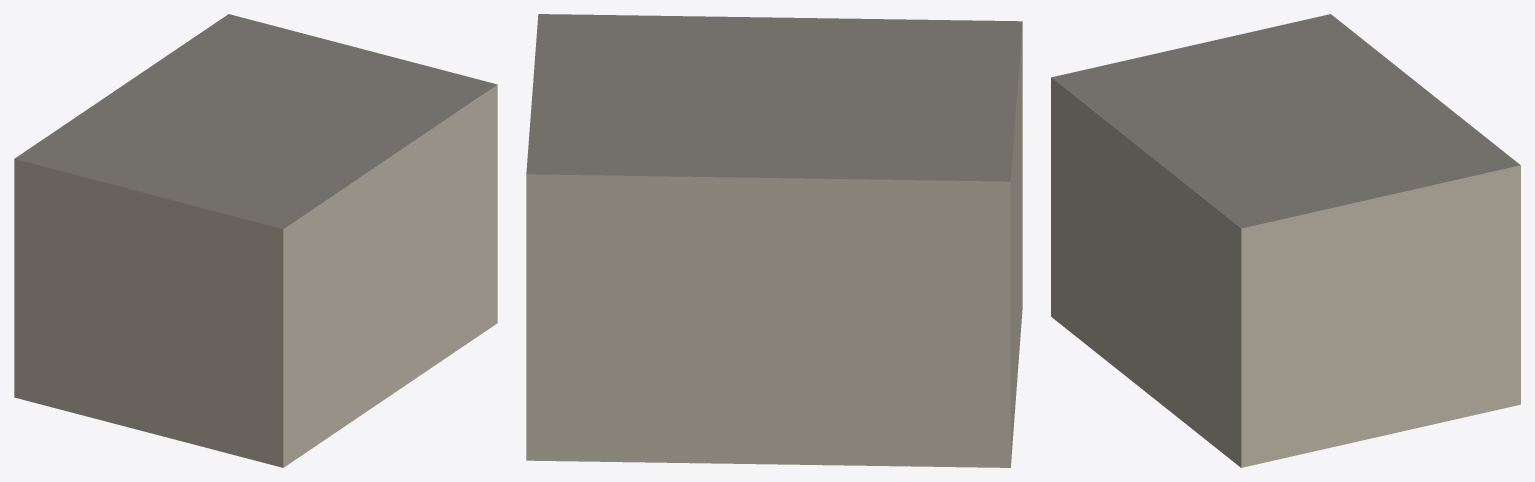
3 views of the same model, side by side, from view 1: azimuth 30°, elevation 25°; view 2: azimuth 150°, elevation 25°; view 3: azimuth 270°, elevation 25° (orthographic). The views are drawn at different scales.
Visible parts, largest first — view 1: HP-w1287059330; view 2: HP-w1287059330; view 3: HP-w1287059330.
Boxes of the visible parts, x1=… form: HP-w1287059330: x1=14, y1=14, x2=497, y2=467; HP-w1287059330: x1=526, y1=14, x2=1022, y2=467; HP-w1287059330: x1=1051, y1=14, x2=1520, y2=467.
Size of the model in its own units: 34.61 by 18 by 32.01.
